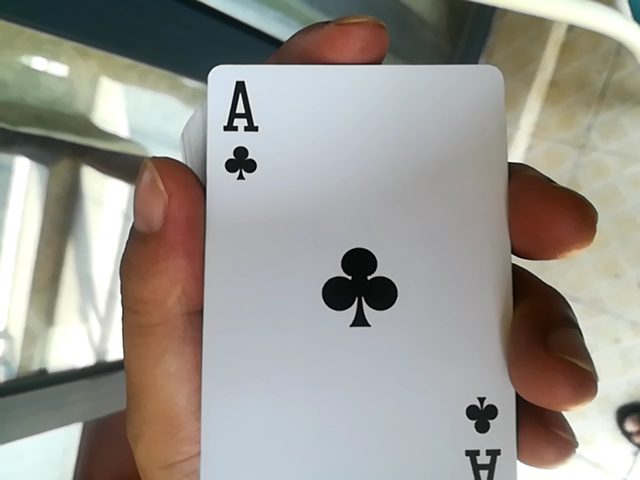mh a: (186, 54, 540, 475)
